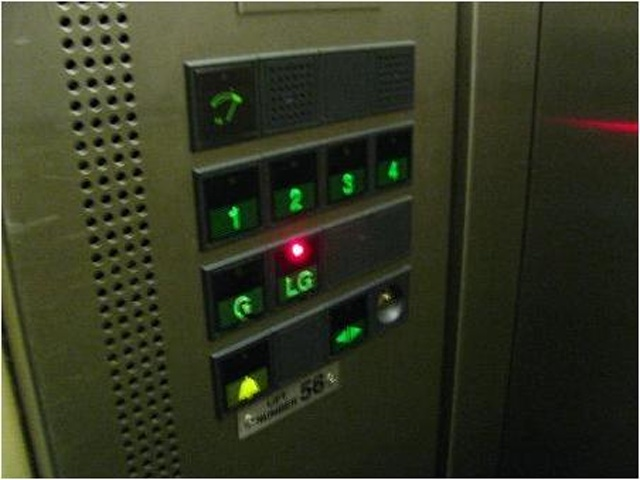1: (206, 196, 259, 238)
2: (272, 178, 316, 217)
3: (326, 167, 365, 198)
4: (378, 156, 406, 184)
G: (216, 285, 264, 326)
LG: (276, 261, 317, 301)
alarm: (223, 365, 268, 406)
open: (330, 316, 367, 355)
unknown: (191, 63, 260, 146)
